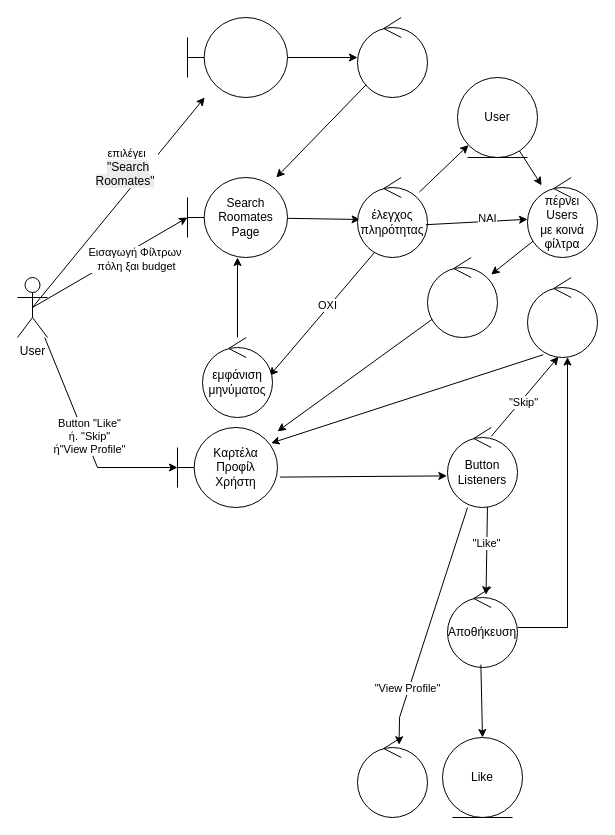
Some shapes in this 615 by 835 pixel diagram are drawn without their labels. Here are the shapes that lost their labels. From the top down, the box of each, then its label:
(186, 16, 288, 98): NavigationBar
(356, 16, 428, 98): εμφάνιση σελίδας
(426, 256, 498, 338): φόρτωση
(526, 276, 598, 358): εμφάνιση επόμενης καρτέλας
(356, 736, 428, 818): Έναρξη ΠΧ9
